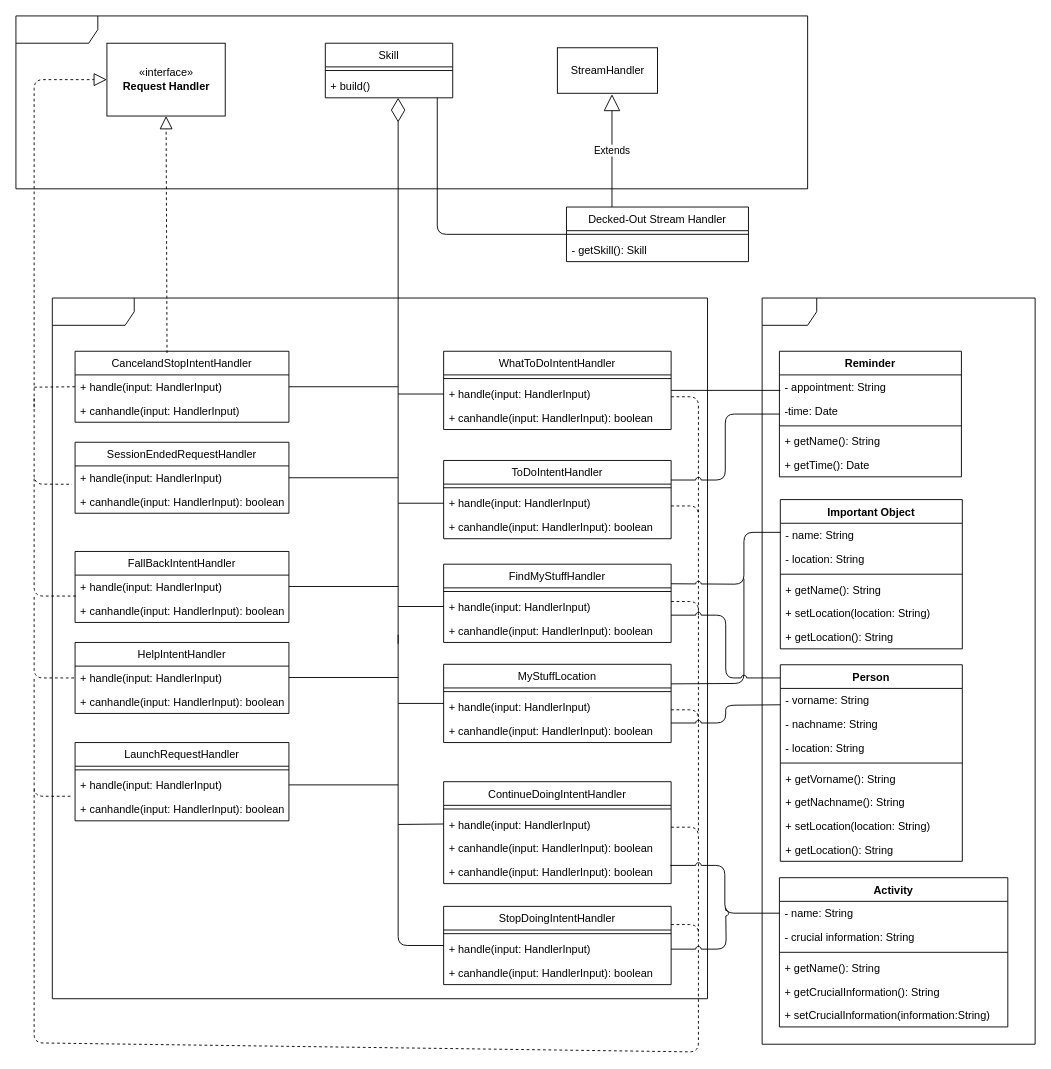
Image size: 1051x1069. Some labels were removed from this diagram. Here are the shapes that lost their labels. From the top down, the centre of each, then its label:
the point at 411,102: com.amazon.ask
the point at 379,648: handler
the point at 898,670: model
